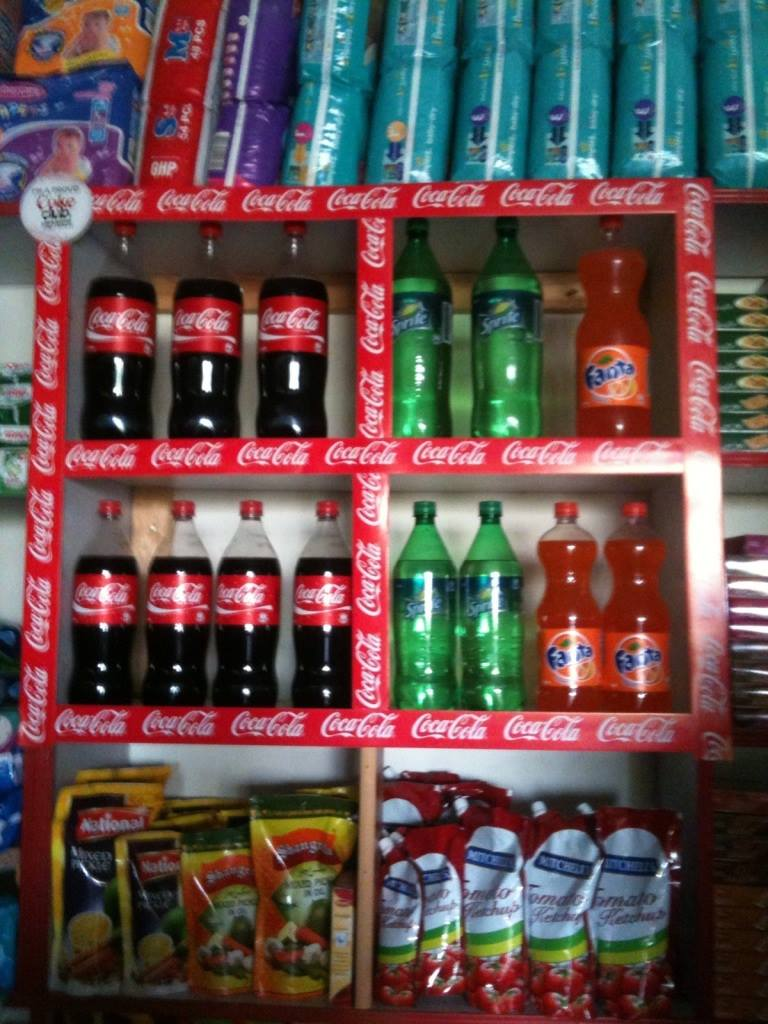cocacola: (317, 706, 400, 746), (595, 712, 674, 754), (406, 709, 491, 748), (52, 703, 130, 743), (354, 274, 389, 359), (60, 434, 136, 473), (498, 713, 584, 747), (137, 706, 218, 742), (498, 437, 581, 472), (225, 708, 308, 743), (680, 262, 713, 350), (234, 437, 313, 473), (353, 623, 386, 708), (352, 534, 384, 618), (684, 361, 718, 438), (409, 438, 490, 470), (355, 361, 389, 437), (680, 181, 712, 259), (587, 181, 667, 212), (320, 438, 401, 468), (147, 441, 224, 472), (236, 187, 314, 216), (498, 183, 576, 212), (408, 184, 488, 212), (150, 188, 229, 216), (88, 303, 150, 336), (324, 186, 401, 211), (175, 306, 229, 337), (263, 303, 318, 333), (150, 579, 205, 607), (74, 579, 128, 606), (296, 580, 347, 608), (216, 580, 267, 607)
fanta: (545, 632, 595, 673), (614, 641, 663, 676), (581, 357, 636, 388)
sprite: (477, 309, 521, 336), (467, 592, 505, 620), (403, 596, 447, 620), (392, 310, 429, 334)
